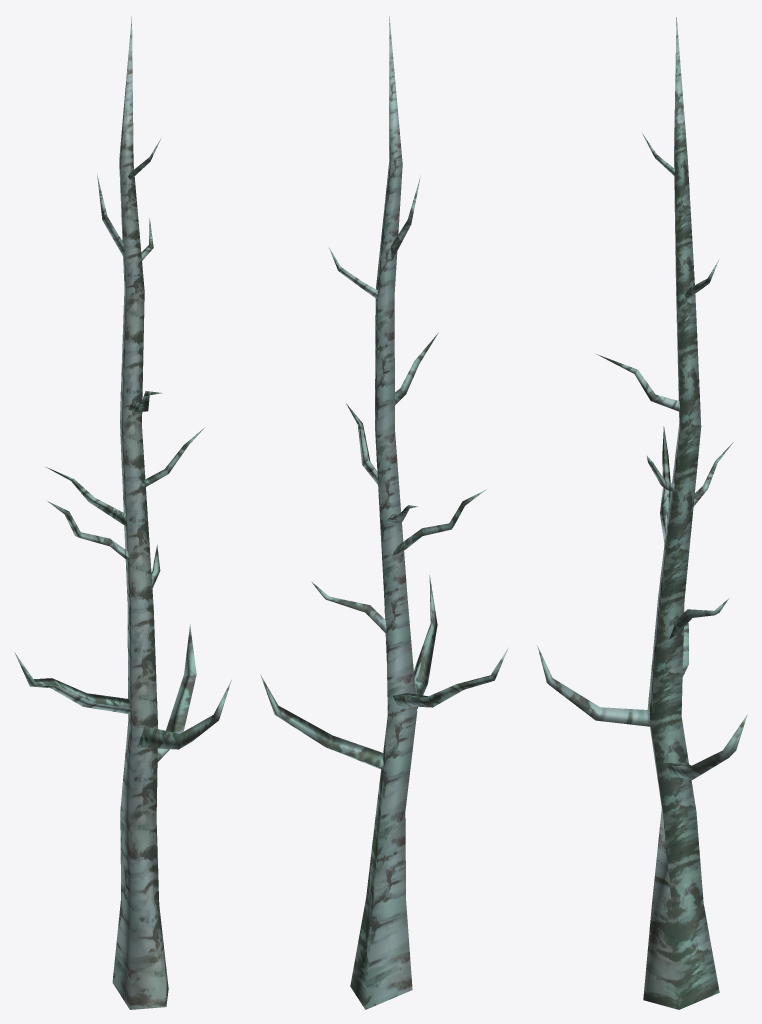
File: town_white_birch02.fbx
3 renders of one model, left to right at view 1: azimuth 30°, elevation 25°; view 2: azimuth 150°, elevation 25°; view 3: azimuth 270°, elevation 25°, orthographic.
Parts seen in each view (by area): view 1: white_birch02; view 2: white_birch02; view 3: white_birch02.
Boxes of the visible parts, bbox=[...] form: white_birch02: bbox=[14, 16, 231, 1009]; white_birch02: bbox=[260, 16, 508, 1009]; white_birch02: bbox=[537, 17, 747, 1009].
Size of the model in its own units: 3.93 by 17.35 by 3.39.
